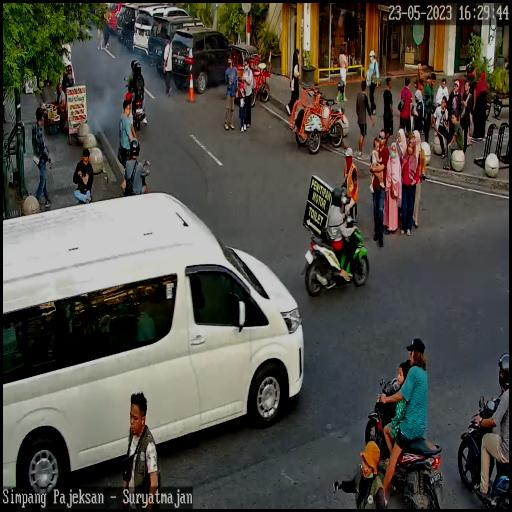mobil: (3, 197, 306, 496), (173, 29, 236, 93), (134, 7, 195, 66), (150, 14, 206, 76)
motor: (367, 374, 440, 508), (305, 208, 370, 300), (460, 388, 508, 512), (125, 74, 148, 125)
